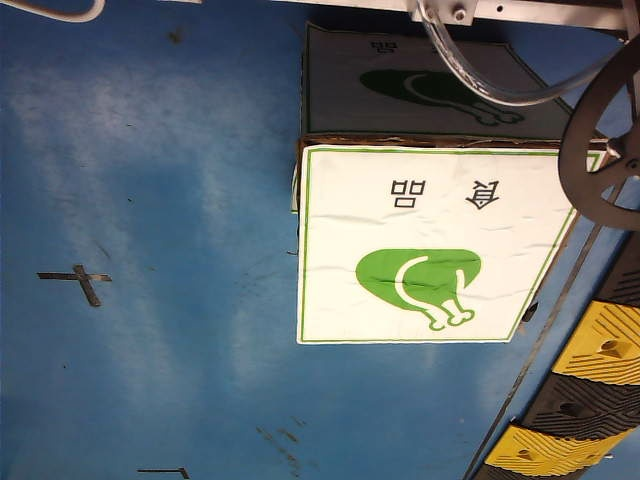Cube_food: (346, 169, 514, 340)
